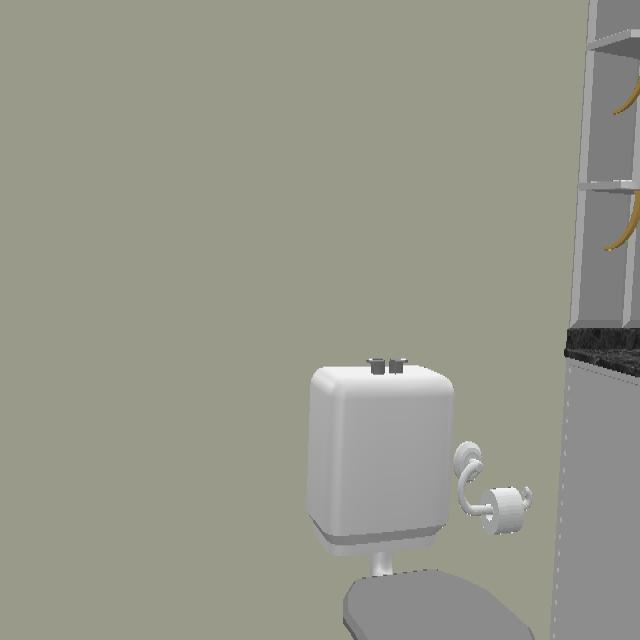toilet: (305, 359, 487, 635)
